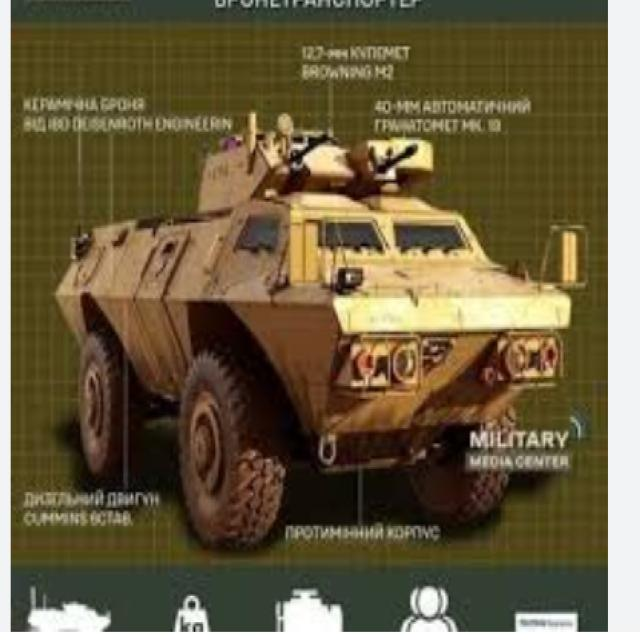MIL_APC: (51, 105, 578, 538)
